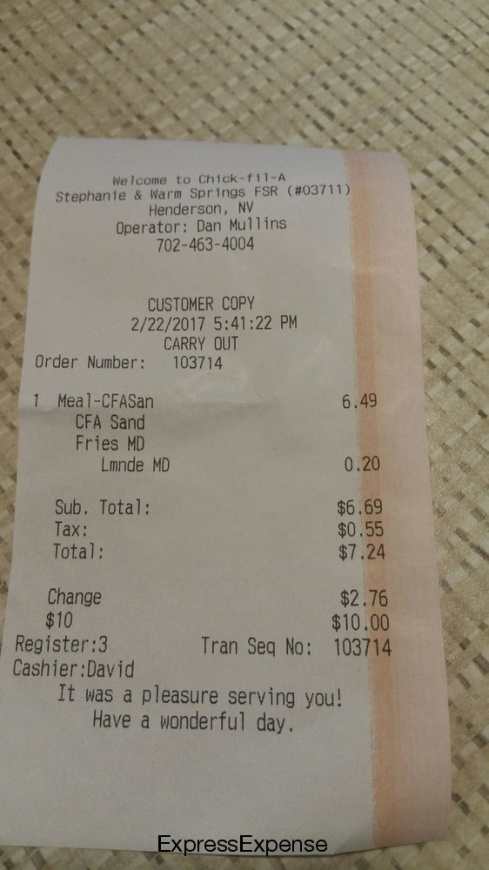Additional details: (1, 655, 430, 755)
Purchase summary: (10, 271, 431, 655)
Receipt: (1, 140, 452, 823)
Shop details: (48, 163, 357, 255)
